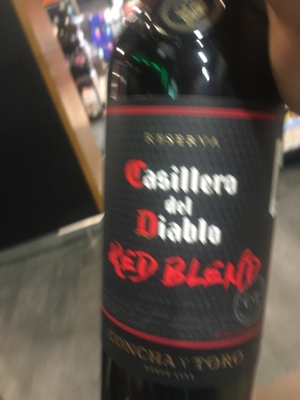casillero del diablo red blend: (90, 40, 281, 400)
